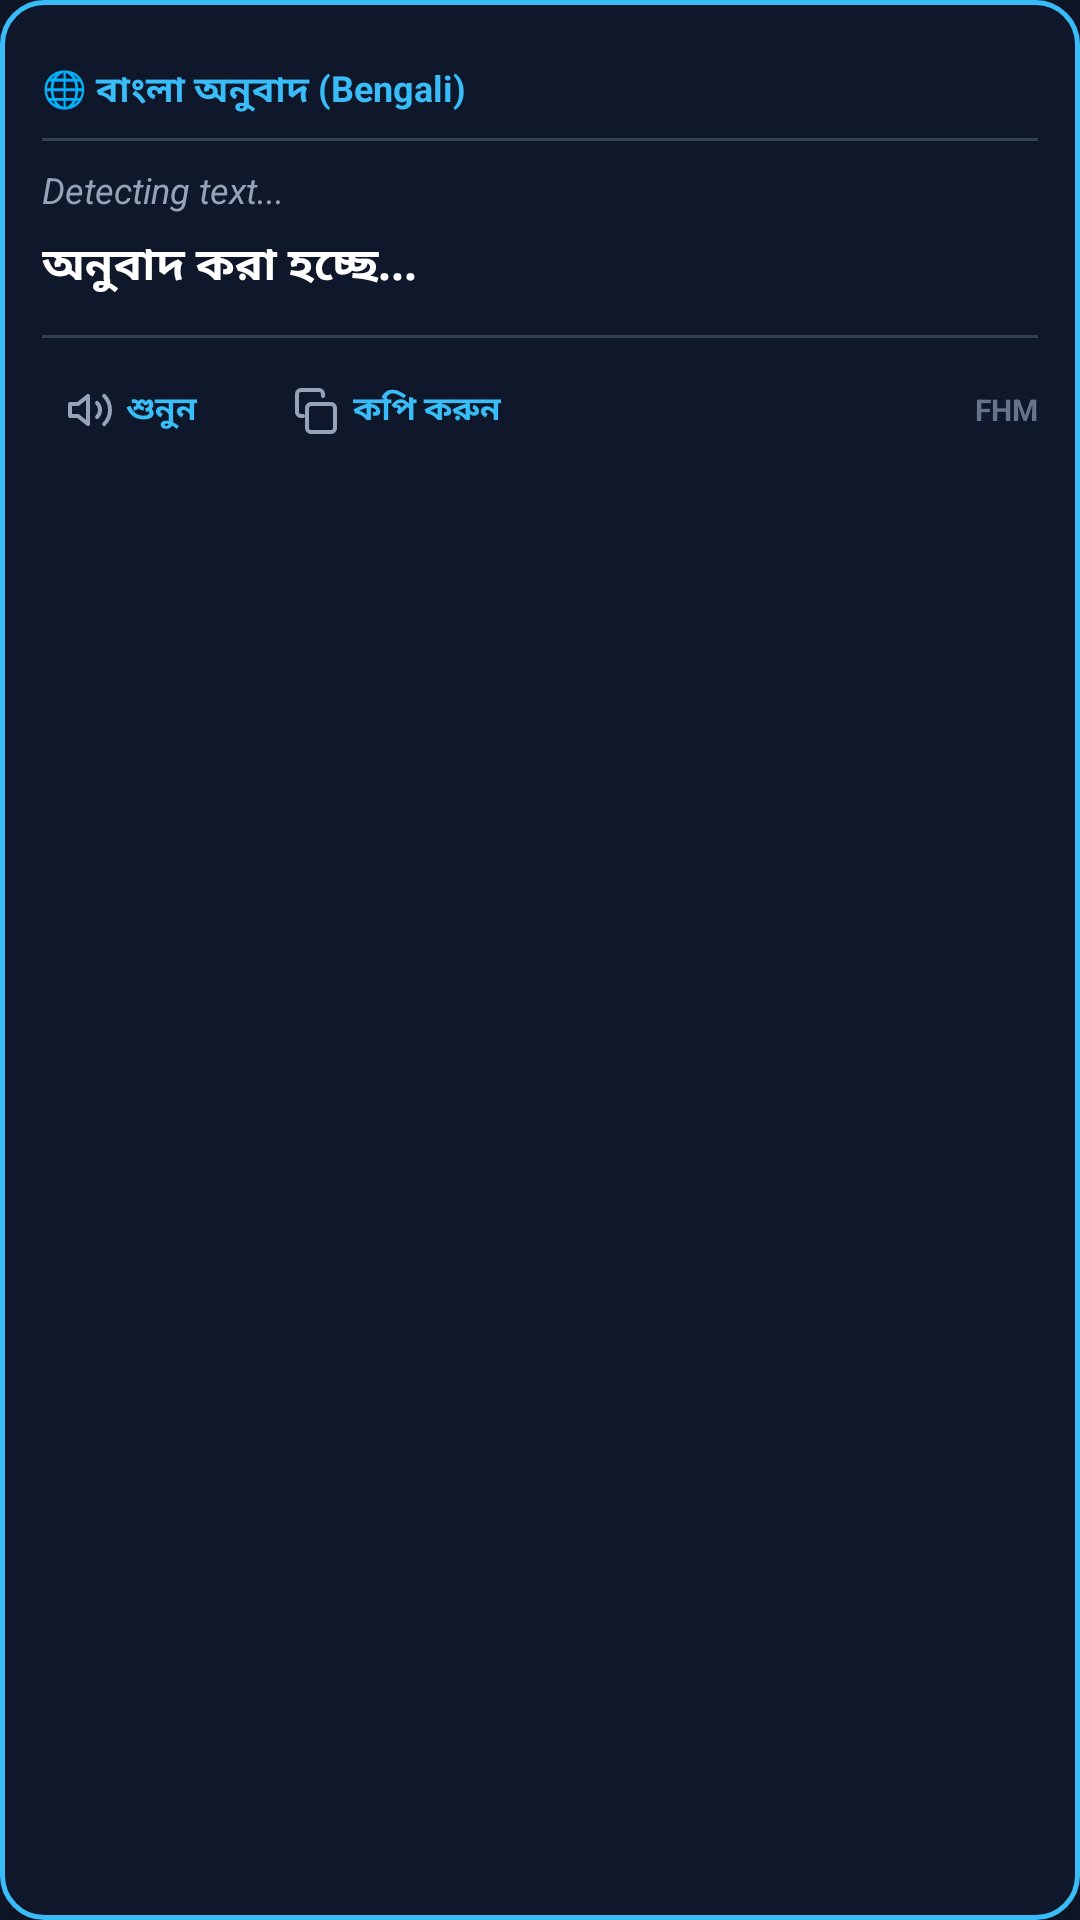

Screen size 1080px x 1920px. Icon name, then its center in pixels as (x=x, y=y):
volume: (x=90, y=410)
